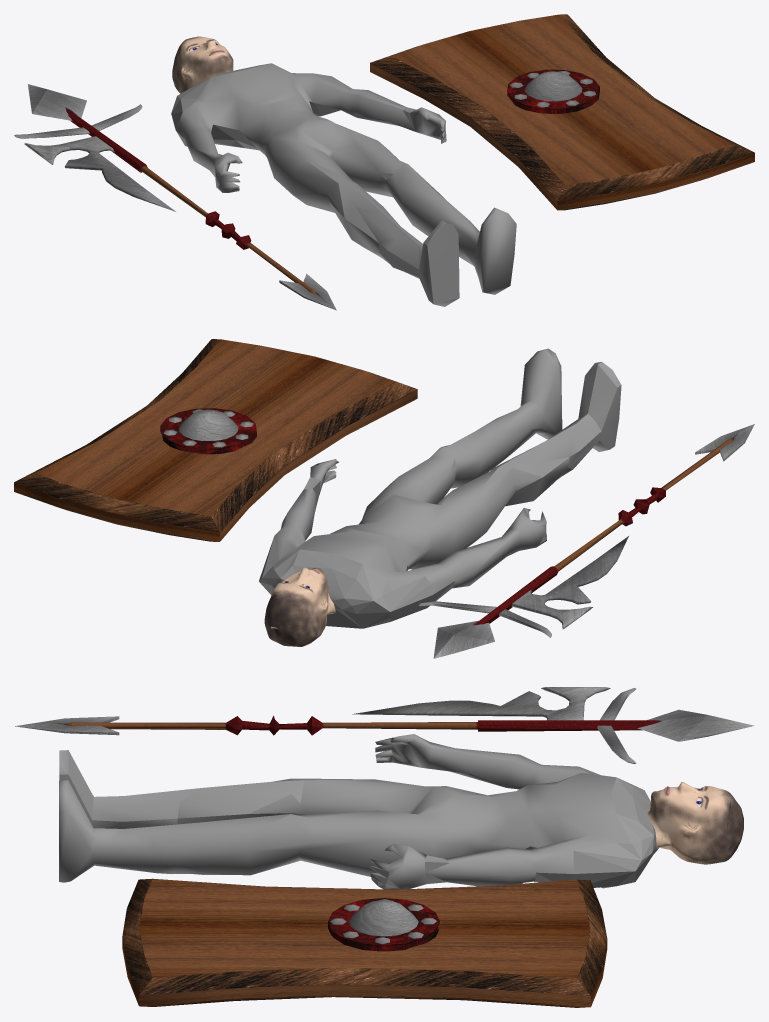
File: Spearman.FBX
The picture shows the model from 3 angles, top to bottom: view 1: azimuth 30°, elevation 25°; view 2: azimuth 150°, elevation 25°; view 3: azimuth 270°, elevation 25°; orthographic projection. The views are drawn at different scales.
Visible parts, largest first — view 1: Cialo, Tarcza, Dzida Axe, Glowa, Dzida Mid, Pierscien Tarczy001, Dzida Top, Zdobienie Polkula, Dzida Bottom; view 2: Cialo, Tarcza, Glowa, Dzida Axe, Dzida Mid, Pierscien Tarczy001, Dzida Top, Zdobienie Polkula, Dzida Bottom; view 3: Cialo, Tarcza, Glowa, Dzida Mid, Dzida Axe, Pierscien Tarczy001, Dzida Top, Zdobienie Polkula, Dzida Bottom.
Part boxes in pixels (x1,y1,x2,y2): Cialo: (171,63,516,306); Tarcza: (370,14,754,210); Dzida Axe: (24,136,175,211); Glowa: (172,36,233,93); Dzida Mid: (66,109,316,294); Pierscien Tarczy001: (507,69,599,113); Dzida Top: (28,84,86,120); Zdobienie Polkula: (524,71,582,101); Dzida Bottom: (279,273,336,310); Cialo: (259,348,621,628); Tarcza: (14,339,417,541); Glowa: (264,567,335,646); Dzida Axe: (511,536,628,629); Dzida Mid: (474,438,734,625); Pierscien Tarczy001: (160,408,256,454); Dzida Top: (433,620,494,658); Zdobienie Polkula: (178,409,238,440); Dzida Bottom: (695,424,754,461); Cialo: (59,734,658,889); Tarcza: (122,878,607,1007); Glowa: (647,782,743,864); Dzida Mid: (64,715,660,735); Dzida Axe: (352,687,610,720); Pierscien Tarczy001: (328,898,439,951); Dzida Top: (637,709,754,741); Zdobienie Polkula: (349,900,418,936); Dzida Bottom: (15,716,119,735).
Size of the model in its own units: 30.24 by 4.68 by 30.21.
6 materials, 5 textured.
